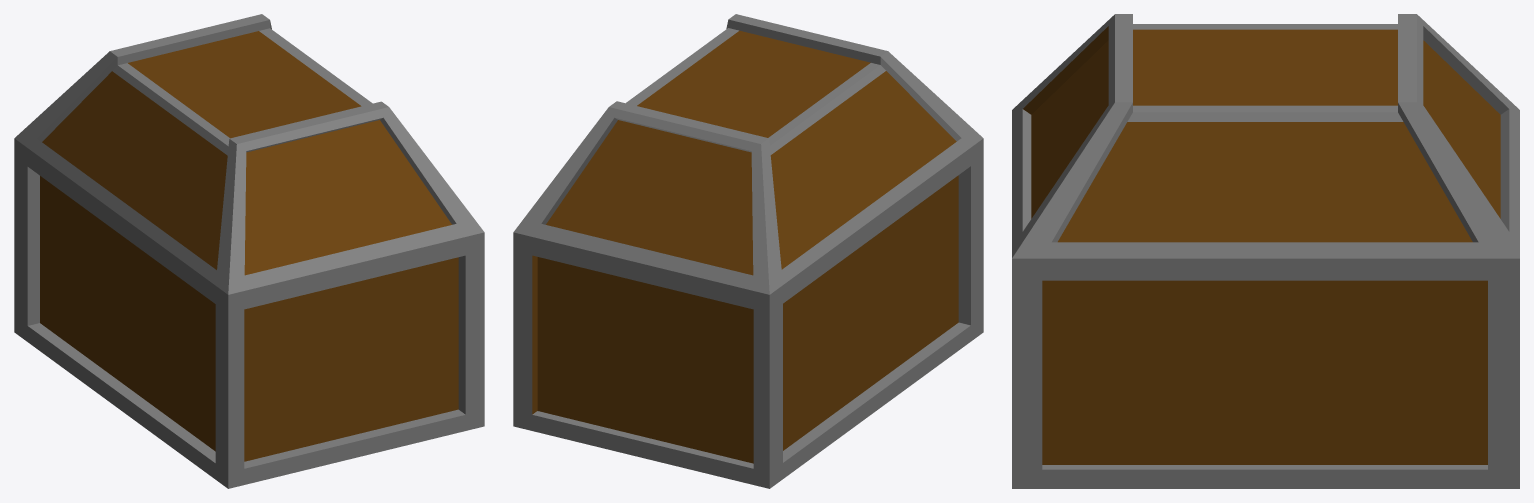
Rendered from Extra_Chest_1.fbx.
3 renders of one model, left to right at view 1: azimuth 30°, elevation 25°; view 2: azimuth 150°, elevation 25°; view 3: azimuth 270°, elevation 25°, orthographic. The views are drawn at different scales.
Parts seen in each view (by area): view 1: Extra_Chest_1; view 2: Extra_Chest_1; view 3: Extra_Chest_1.
Part boxes in pixels (<box>): Extra_Chest_1: <box>14,14,484,488</box>; Extra_Chest_1: <box>513,14,983,488</box>; Extra_Chest_1: <box>1012,14,1519,488</box>.
Size of the model in its own units: 69.49 by 77.79 by 100.
